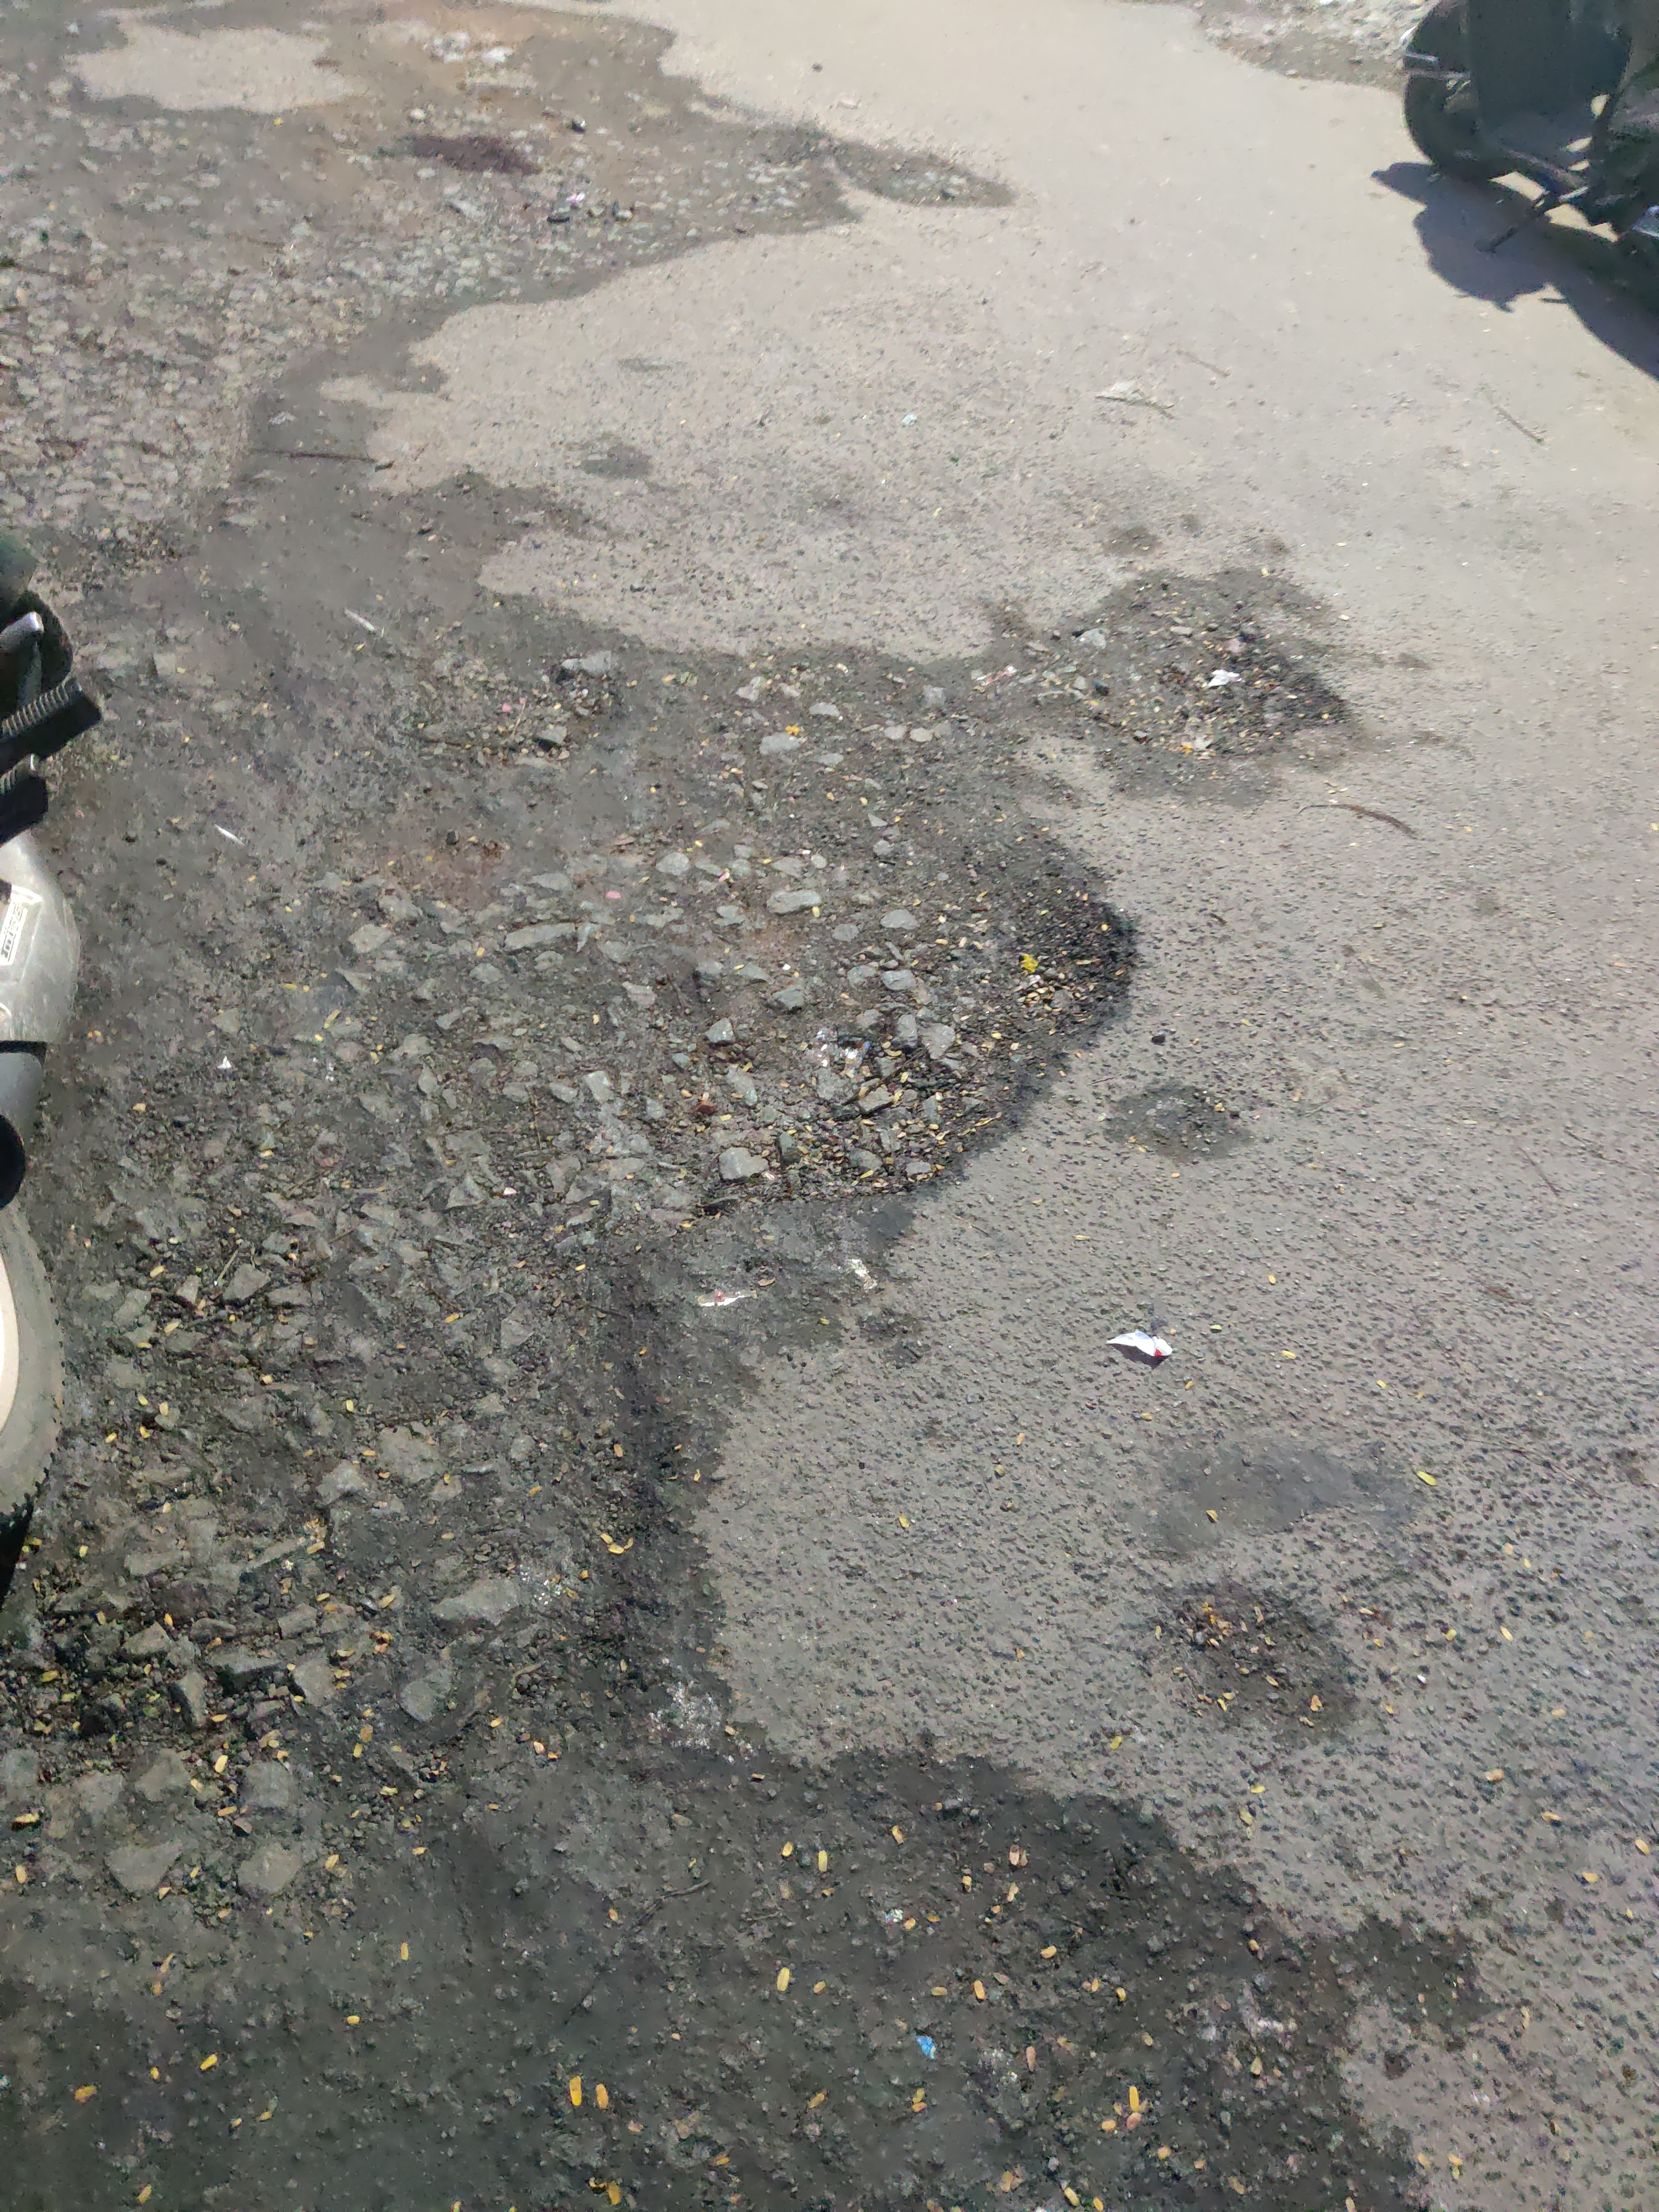potholes: (0, 547, 1384, 2212), (0, 12, 1007, 529)
